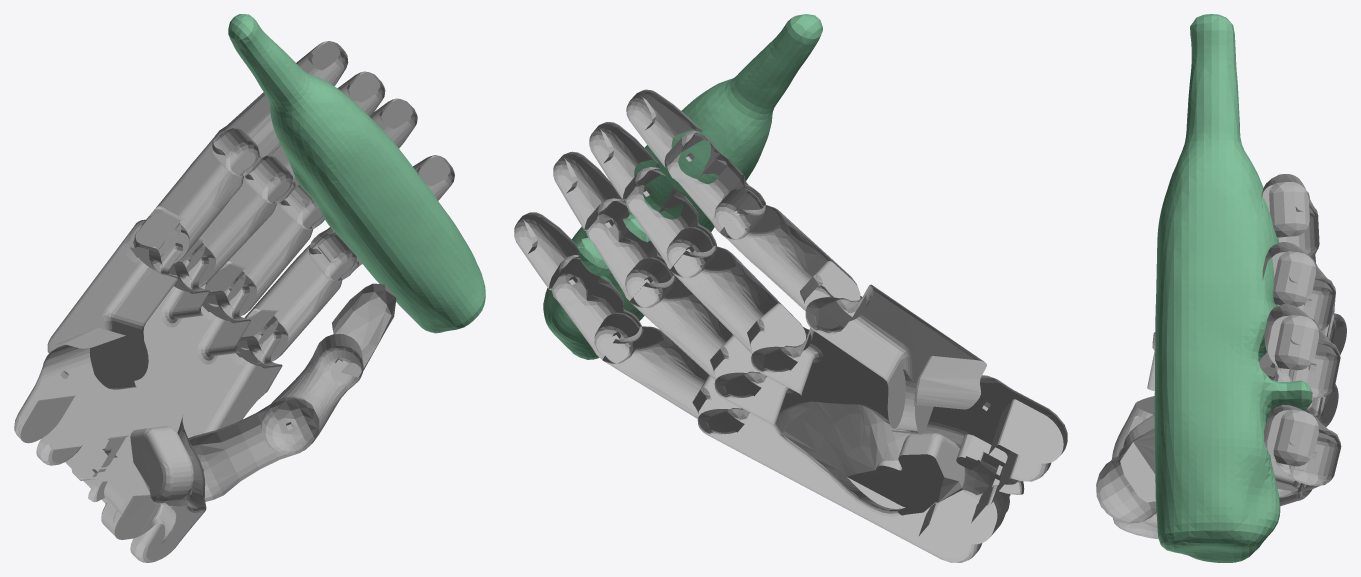
3 views of the same model, side by side, from view 1: azimuth 30°, elevation 25°; view 2: azimuth 150°, elevation 25°; view 3: azimuth 270°, elevation 25° (orthographic). The views are drawn at different scales.
Parts seen in each view (by area): view 1: world; view 2: world; view 3: world.
Part boxes in pixels (x1,y1,x2,y2): world: (14,14,485,562); world: (514,14,1067,562); world: (1096,14,1346,562).
Bounding box in the file's own units: 1.36 × 1.37 × 0.5219.
